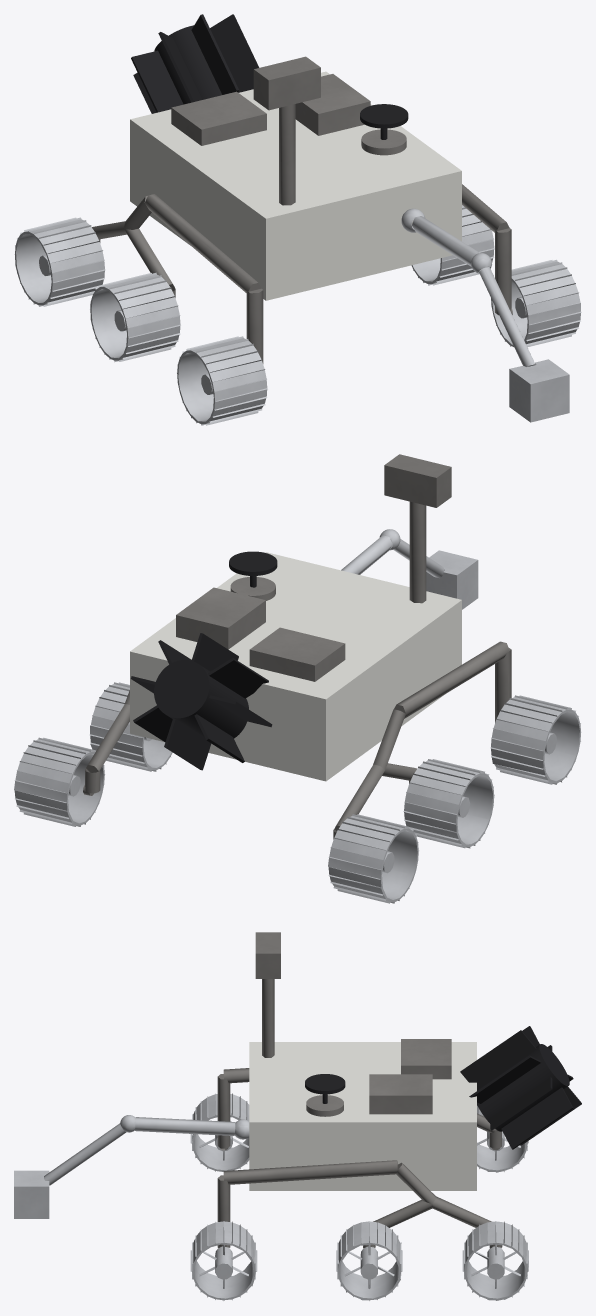
Rendered from rover01_science_rover_arm_deployed.glb.
3 views of the same model, one above another, from view 1: azimuth 30°, elevation 25°; view 2: azimuth 150°, elevation 25°; view 3: azimuth 270°, elevation 25° (orthographic). The views are drawn at different scales.
Parts seen in each view (by area): view 1: body_web, mmrtg, deck_boxes, rocker_bogie, wheel_5, wheel_4, wheel_6, robotic_arm, wheel_1, mast, wheel_2, hga; view 2: body_web, mmrtg, deck_boxes, rocker_bogie, wheel_6, wheel_4, wheel_5, wheel_3, mast, robotic_arm, wheel_2, hga; view 3: body_web, mmrtg, rocker_bogie, deck_boxes, robotic_arm, wheel_1, wheel_2, wheel_3, wheel_4, mast, wheel_6, hga.
Boxes of the visible parts, left/top/right/bottom form: body_web: left=130, top=71, right=461, bottom=300; mmrtg: left=131, top=14, right=259, bottom=113; deck_boxes: left=171, top=74, right=406, bottom=155; rocker_bogie: left=92, top=184, right=512, bottom=363; wheel_5: left=90, top=272, right=180, bottom=362; wheel_4: left=177, top=336, right=267, bottom=425; wheel_6: left=14, top=217, right=105, bottom=306; robotic_arm: left=401, top=208, right=569, bottom=422; wheel_1: left=491, top=259, right=581, bottom=347; mast: left=253, top=56, right=320, bottom=205; wheel_2: left=411, top=205, right=494, bottom=285; hga: left=360, top=104, right=408, bottom=139; body_web: left=130, top=552, right=461, bottom=781; mmrtg: left=131, top=633, right=272, bottom=770; deck_boxes: left=176, top=577, right=345, bottom=681; rocker_bogie: left=83, top=641, right=511, bottom=839; wheel_6: left=328, top=814, right=419, bottom=903; wheel_4: left=490, top=695, right=581, bottom=784; wheel_5: left=403, top=759, right=494, bottom=848; wheel_3: left=14, top=737, right=105, bottom=826; mast: left=384, top=454, right=451, bottom=603; robotic_arm: left=341, top=529, right=478, bottom=609; wheel_2: left=89, top=682, right=172, bottom=771; hga: left=229, top=551, right=277, bottom=587; body_web: left=249, top=1042, right=476, bottom=1190; mmrtg: left=460, top=1026, right=581, bottom=1149; rocker_bogie: left=217, top=1068, right=502, bottom=1248; deck_boxes: left=306, top=1039, right=451, bottom=1116; robotic_arm: left=14, top=1115, right=249, bottom=1218; wheel_1: left=190, top=1221, right=257, bottom=1300; wheel_2: left=336, top=1221, right=402, bottom=1300; wheel_3: left=462, top=1221, right=528, bottom=1300; wheel_4: left=190, top=1093, right=249, bottom=1171; mast: left=255, top=932, right=280, bottom=1057; wheel_6: left=477, top=1105, right=528, bottom=1172; hga: left=305, top=1074, right=345, bottom=1103.
Bounding box in the file's own units: 2.8 × 2.24 × 4.49.
4 materials, 2 textured.
